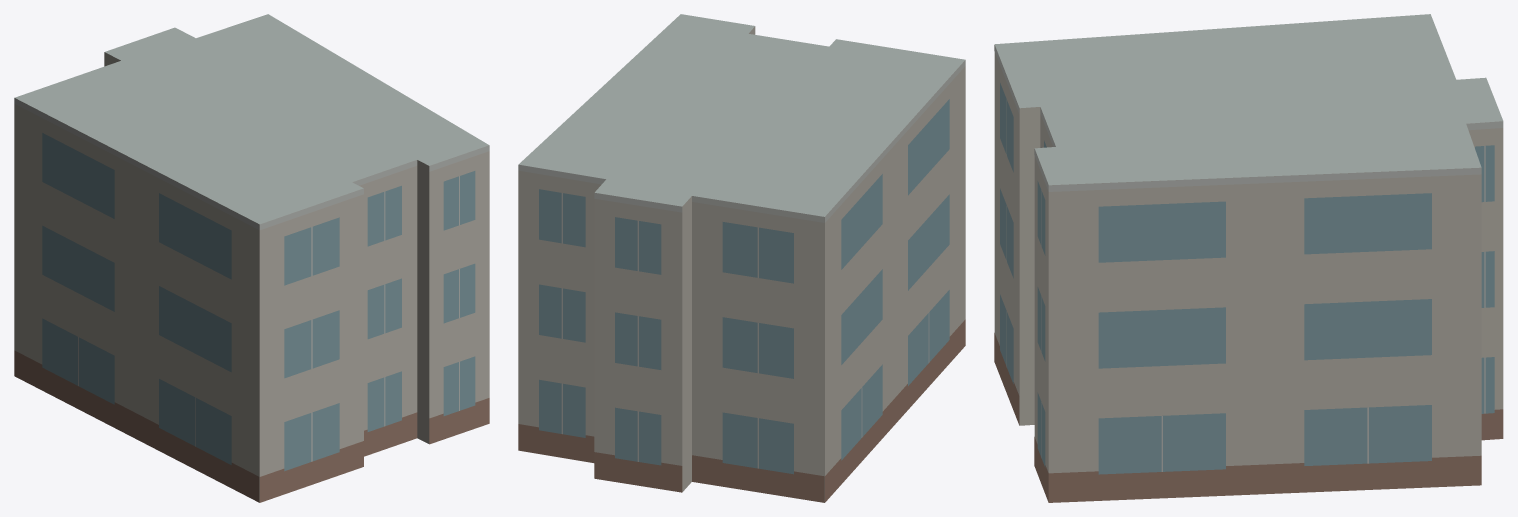
Rendered from survey-upis-32832794.glb.
3 views of the same model, side by side, from view 1: azimuth 30°, elevation 25°; view 2: azimuth 150°, elevation 25°; view 3: azimuth 270°, elevation 25° (orthographic). The views are drawn at different scales.
Visible parts, largest first — view 1: survey-upis-32832794.tmp; view 2: survey-upis-32832794.tmp; view 3: survey-upis-32832794.tmp.
Boxes of the visible parts, bbox=[...] form: survey-upis-32832794.tmp: bbox=[14, 14, 489, 502]; survey-upis-32832794.tmp: bbox=[518, 14, 965, 502]; survey-upis-32832794.tmp: bbox=[994, 14, 1503, 502].
Bounding box in the file's own units: 13.31 × 11.5 × 16.71.
